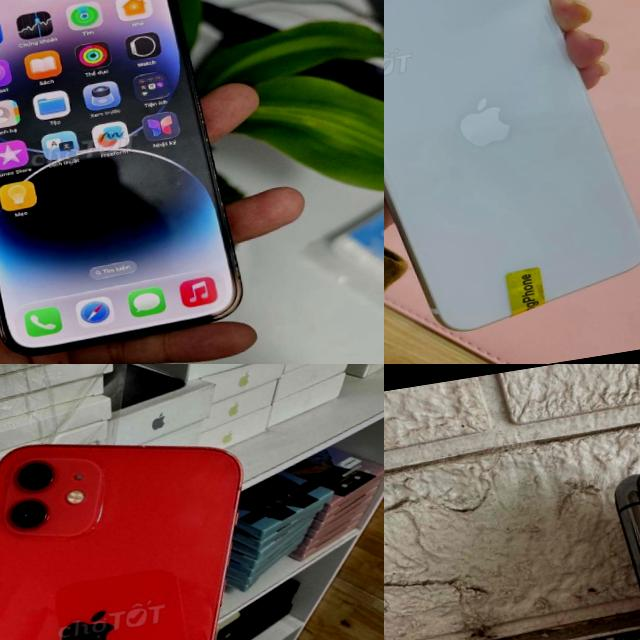gen_12_13: (0, 410, 298, 640)
gen_14: (0, 0, 254, 364)
gen_7_8: (384, 0, 640, 353)
